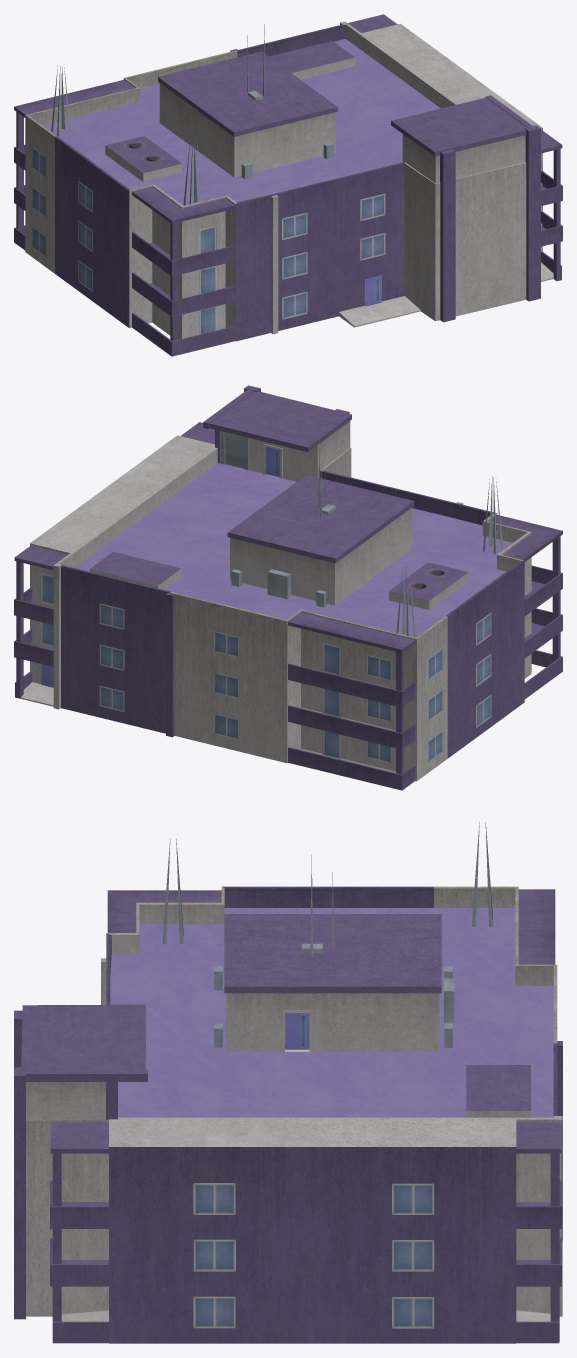
File: ORB_6_Outer_Single_Detail_2.fbx
3 views of the same model, one above another, from view 1: azimuth 30°, elevation 25°; view 2: azimuth 150°, elevation 25°; view 3: azimuth 270°, elevation 25° (orthographic). The views are drawn at different scales.
Parts seen in each view (by area): view 1: ORB_6_Outer_Single_Detail_2; view 2: ORB_6_Outer_Single_Detail_2; view 3: ORB_6_Outer_Single_Detail_2.
Boxes of the visible parts, bbox=[...] form: ORB_6_Outer_Single_Detail_2: bbox=[14, 14, 562, 356]; ORB_6_Outer_Single_Detail_2: bbox=[14, 385, 562, 790]; ORB_6_Outer_Single_Detail_2: bbox=[14, 822, 562, 1343].
Bounding box in the file's own units: 2911 × 1784 × 2563.
